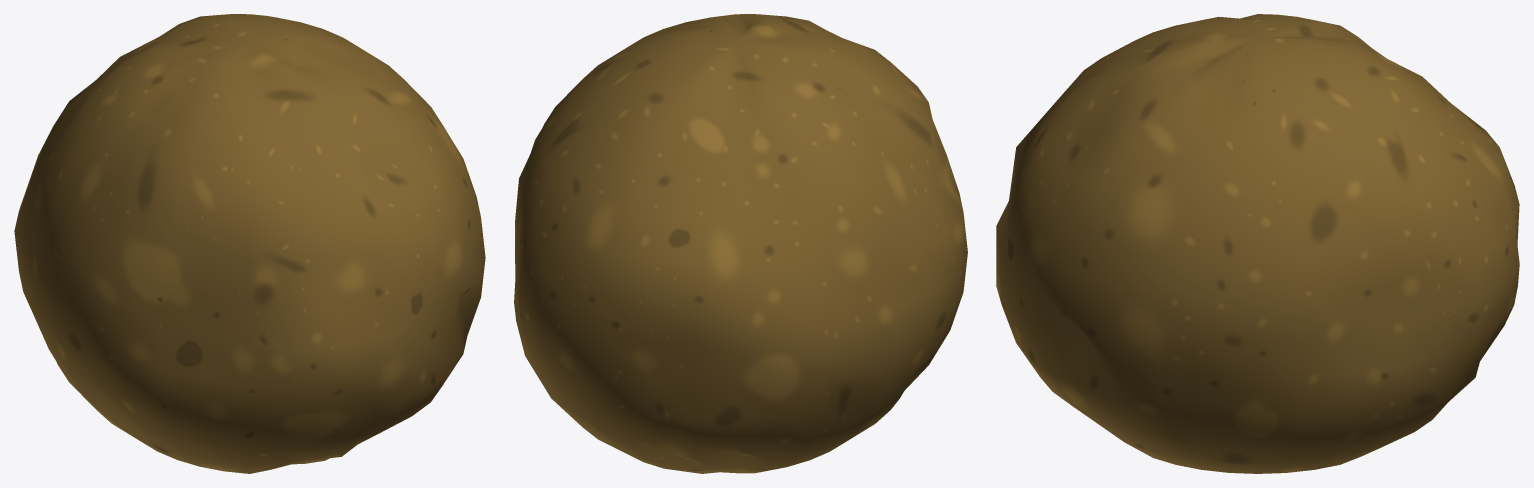
Rendered from asteroide.fbx.
3 renders of one model, left to right at view 1: azimuth 30°, elevation 25°; view 2: azimuth 150°, elevation 25°; view 3: azimuth 270°, elevation 25°, orthographic. The views are drawn at different scales.
Parts seen in each view (by area): view 1: Sphere; view 2: Sphere; view 3: Sphere.
Part boxes in pixels (<box>): Sphere: <box>14,14,485,473</box>; Sphere: <box>514,14,967,473</box>; Sphere: <box>996,14,1519,473</box>.
Bounding box in the file's own units: 87.32 × 84.05 × 98.73.
Materials: 1 (1 with a texture image).
